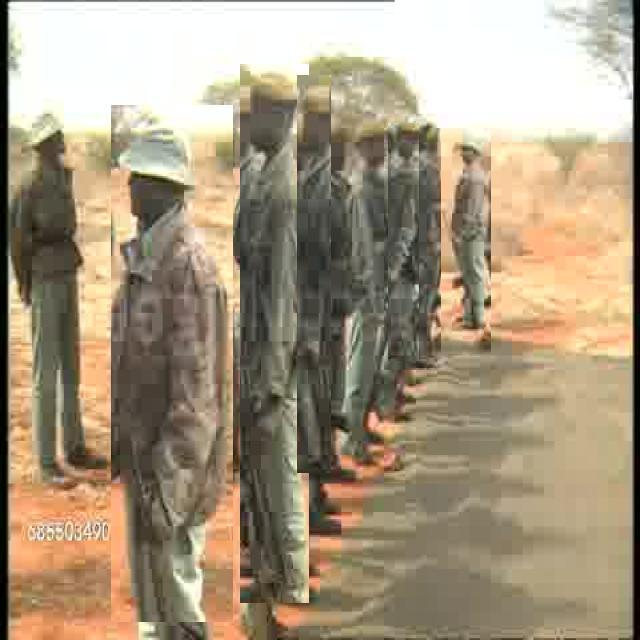poacher: (111, 105, 233, 622), (11, 112, 112, 503), (240, 64, 309, 603), (346, 110, 388, 438), (297, 75, 331, 473), (441, 128, 491, 354), (388, 123, 419, 361)
